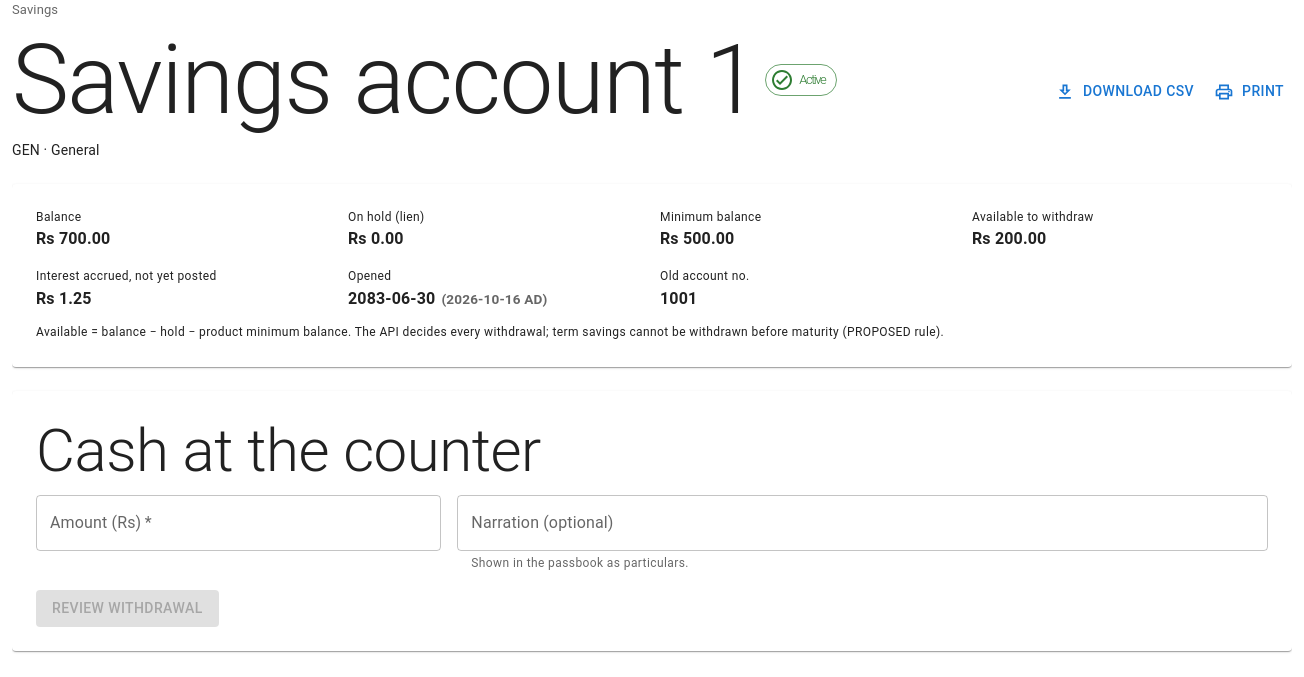
Test case: SavingsAccountView › asks for a written reason above Rs 5 lakh cash withdrawal and warns without the permission
The width and height of the screenshot is (1304, 677).
Type "500000.01" into the field labelled "Amount (Rs) *" at point(239, 523), box [36, 495, 441, 551]
(page scrolled)
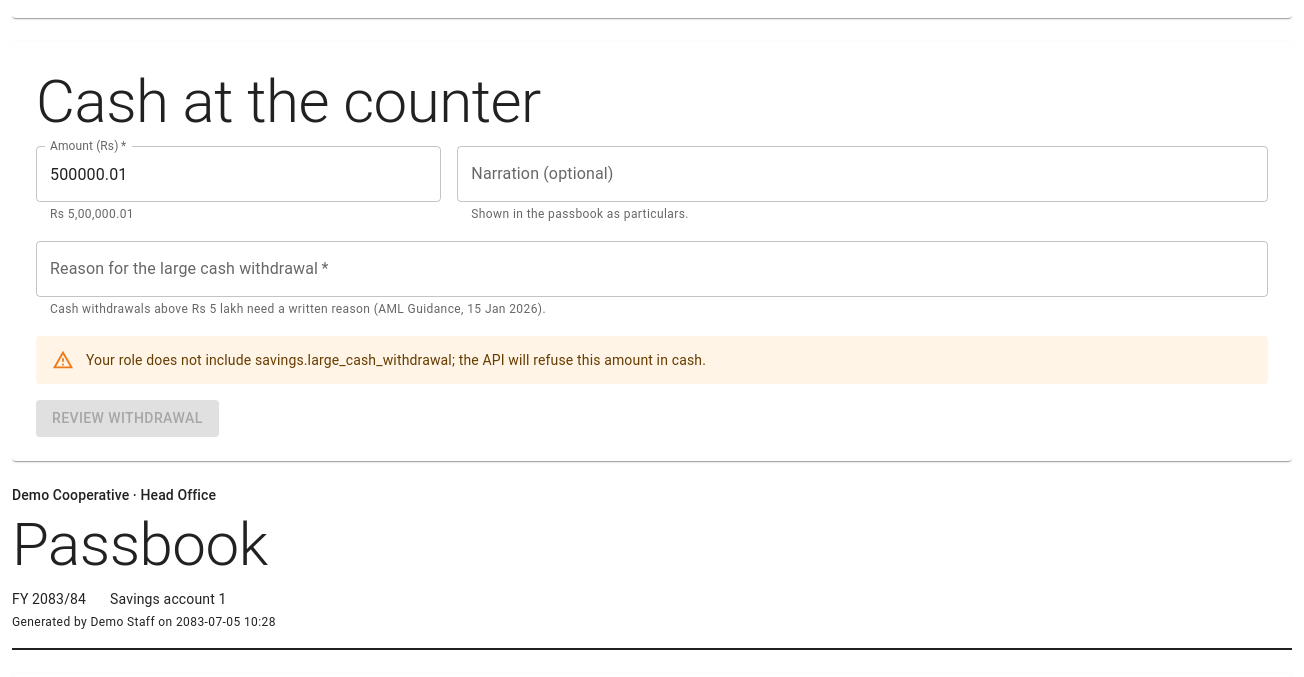
expect the text box labelled "Reason for the large cash withdrawal *" is shown: met, box [50, 258, 1254, 281]
expect the text "savings.large_cash_withdrawal" is shown: met, box [86, 352, 706, 368]
